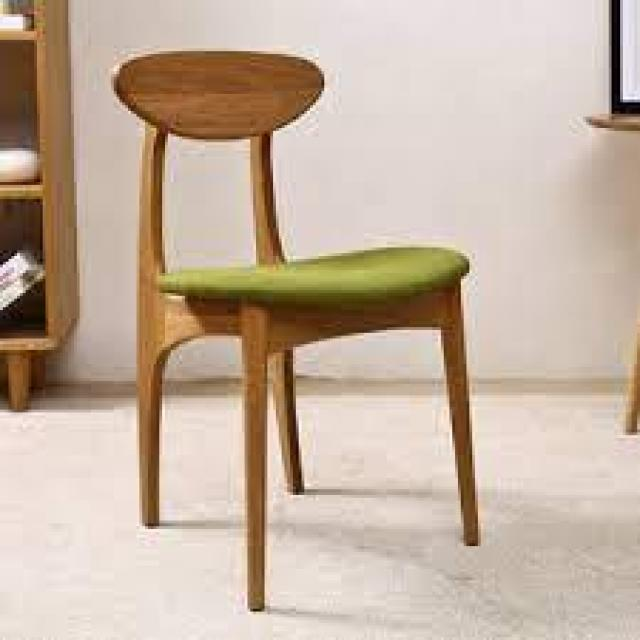chair: (80, 47, 503, 621)
